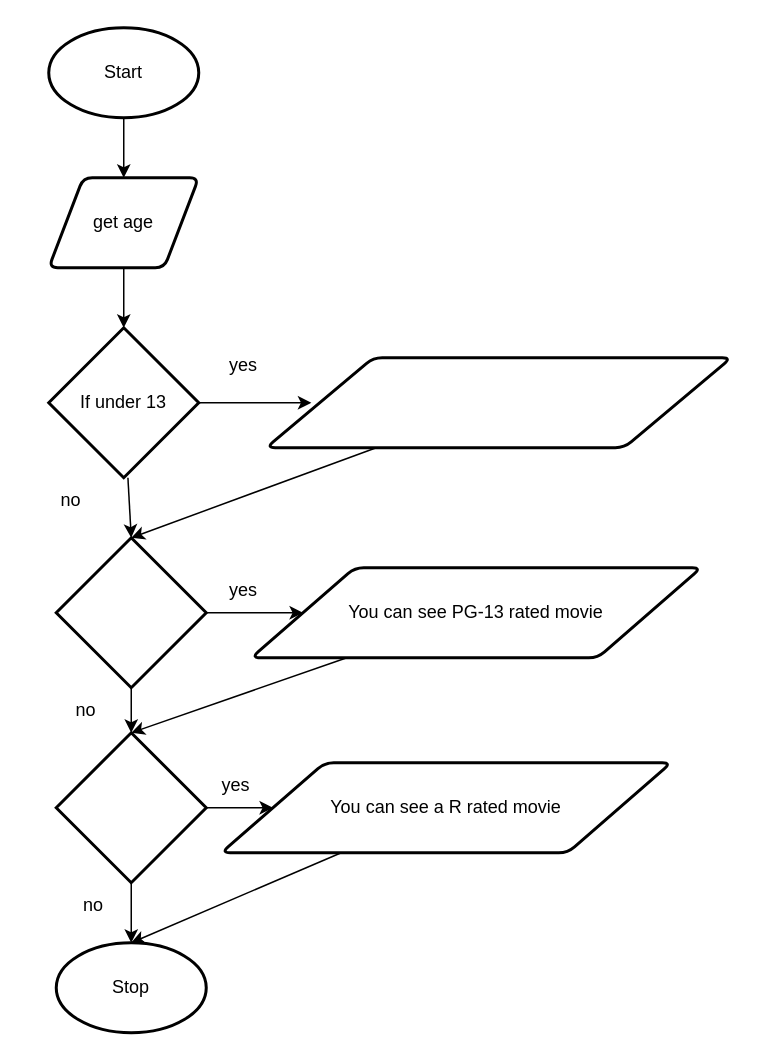
Image size: 758x1059. Some labels were removed from this diagram. The centre of each missing label's shape, as x and y in pixels:
If age == 13: [130,612]
If over 13: [130,807]
You can watch a G rated movie: [498,402]
